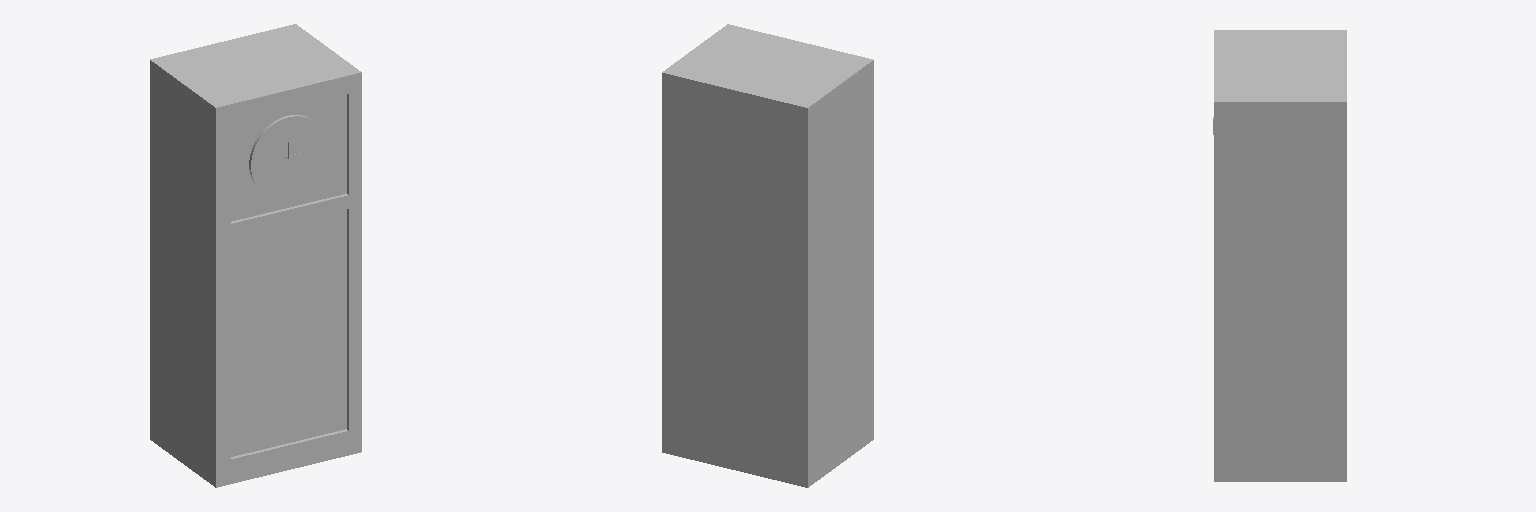
The model's file is clockfinal2.obj.
3 renders of one model, left to right at view 1: azimuth 30°, elevation 25°; view 2: azimuth 150°, elevation 25°; view 3: azimuth 270°, elevation 25°, orthographic.
Visible parts, largest first — view 1: box_Cube.004, clock_face_Cube.005; view 2: box_Cube.004; view 3: box_Cube.004.
Boxes of the visible parts, <box> form: box_Cube.004: <box>150,24,361,487</box>; clock_face_Cube.005: <box>249,115,326,197</box>; box_Cube.004: <box>662,24,873,487</box>; box_Cube.004: <box>1214,30,1346,481</box>.
Size of the model in its own units: 0.7645 by 1.9 by 0.6028.